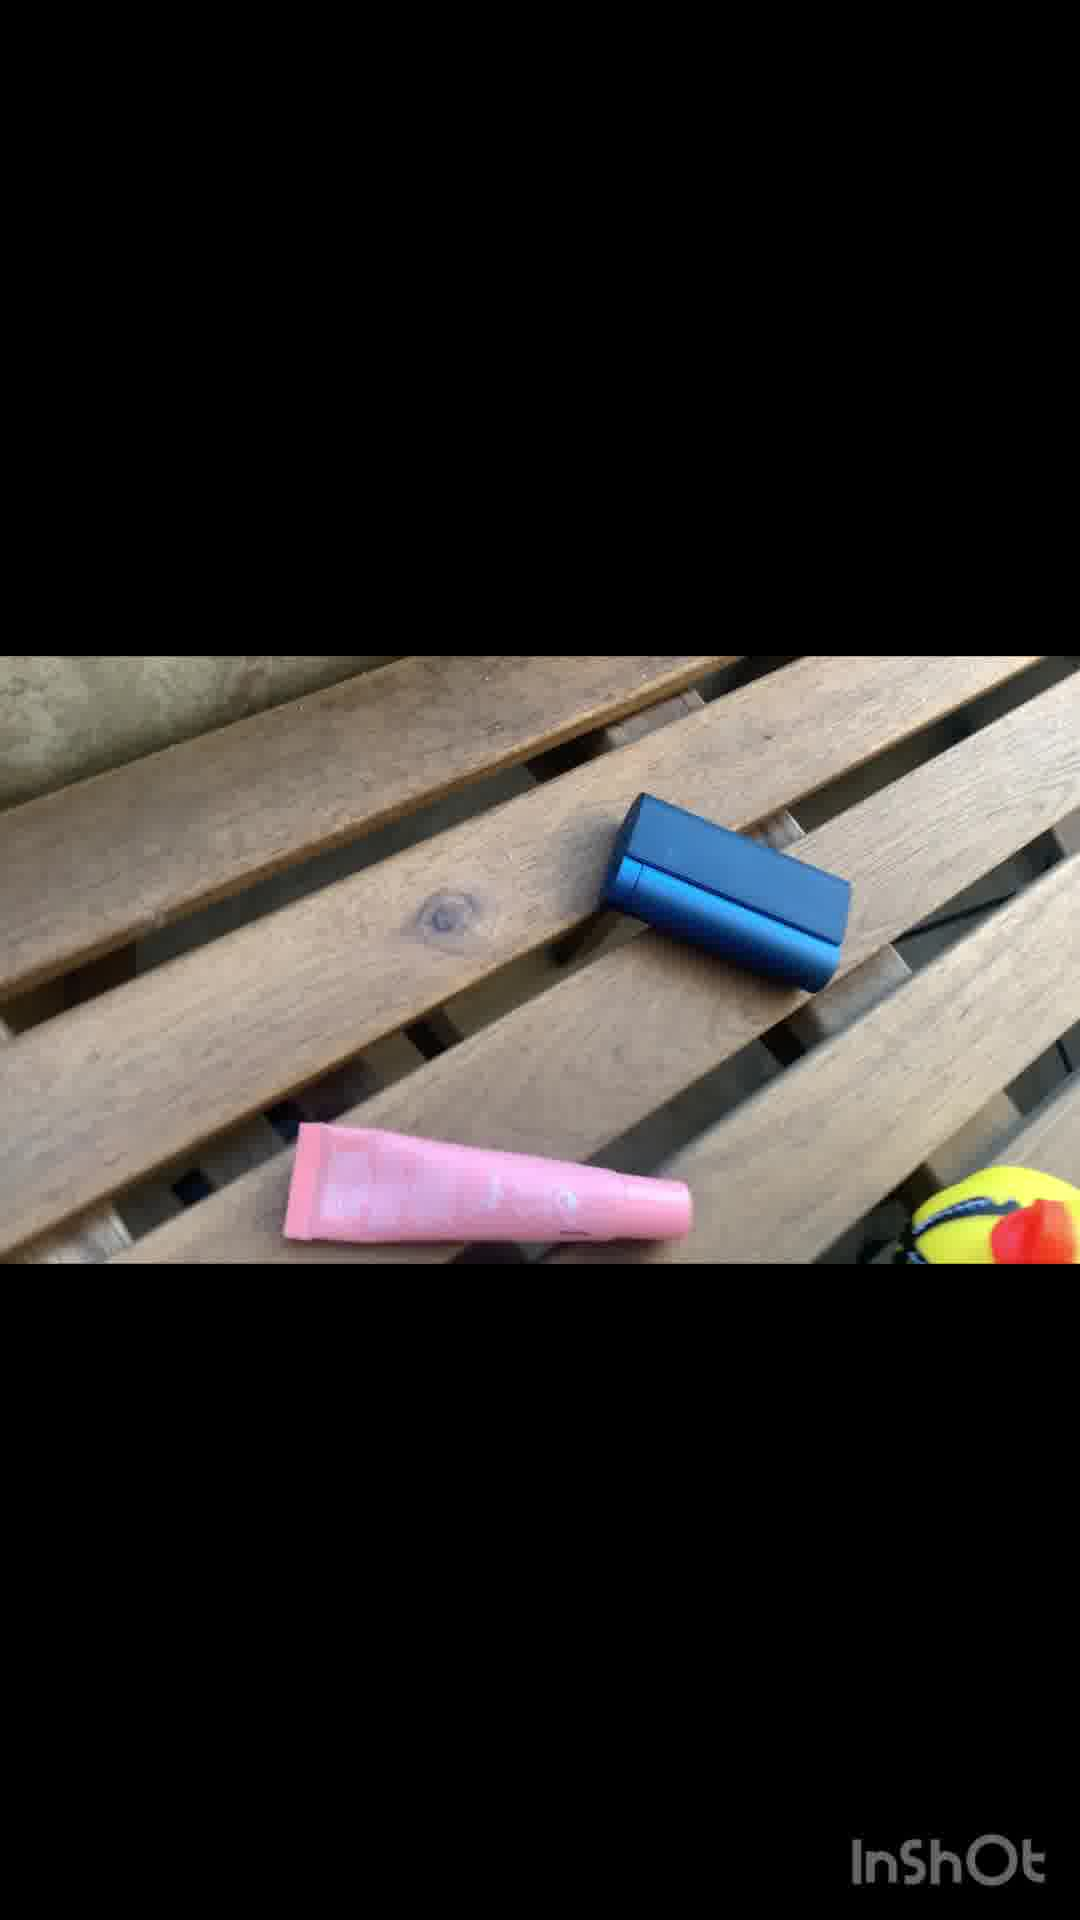duck: (887, 1139, 1080, 1265)
glo: (600, 795, 862, 1000)
lip balm: (274, 1100, 698, 1257)
